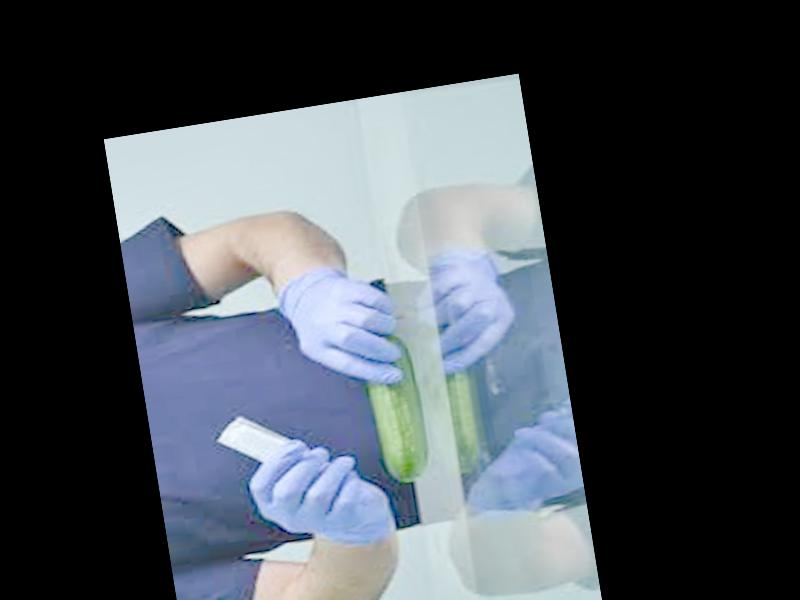Cucumber: (361, 332, 433, 486)
